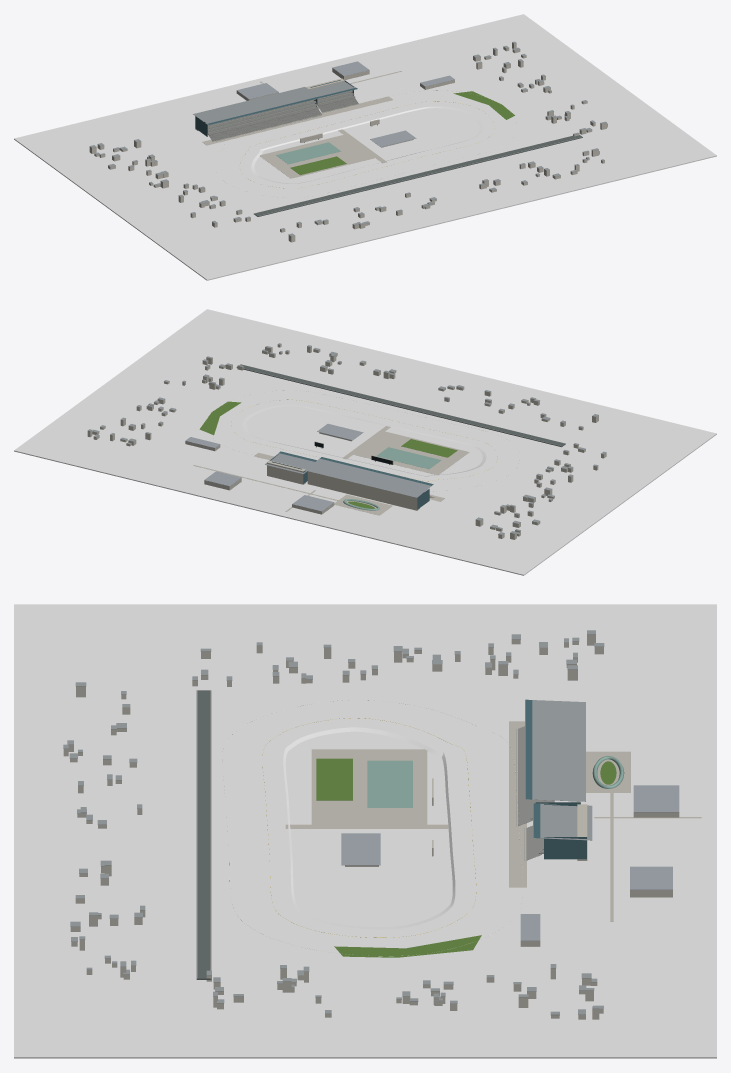
File: venue-lite.glb
The picture shows the model from 3 angles, top to bottom: view 1: azimuth 30°, elevation 25°; view 2: azimuth 150°, elevation 25°; view 3: azimuth 270°, elevation 25°; orthographic projection. The views are drawn at different scales.
Visible parts, largest first — view 1: Apron; view 2: Apron, Highway_barrier; view 3: Apron, Highway_barrier.
Boxes of the visible parts, <box> form: Apron: <box>14,14,716,280</box>; Apron: <box>14,309,716,575</box>; Highway_barrier: <box>241,364,565,510</box>; Apron: <box>14,604,716,1058</box>; Highway_barrier: <box>197,690,624,978</box>.
Size of the model in its own units: 1600 by 54.69 by 1050.
Materials: 2 (2 with a texture image).
